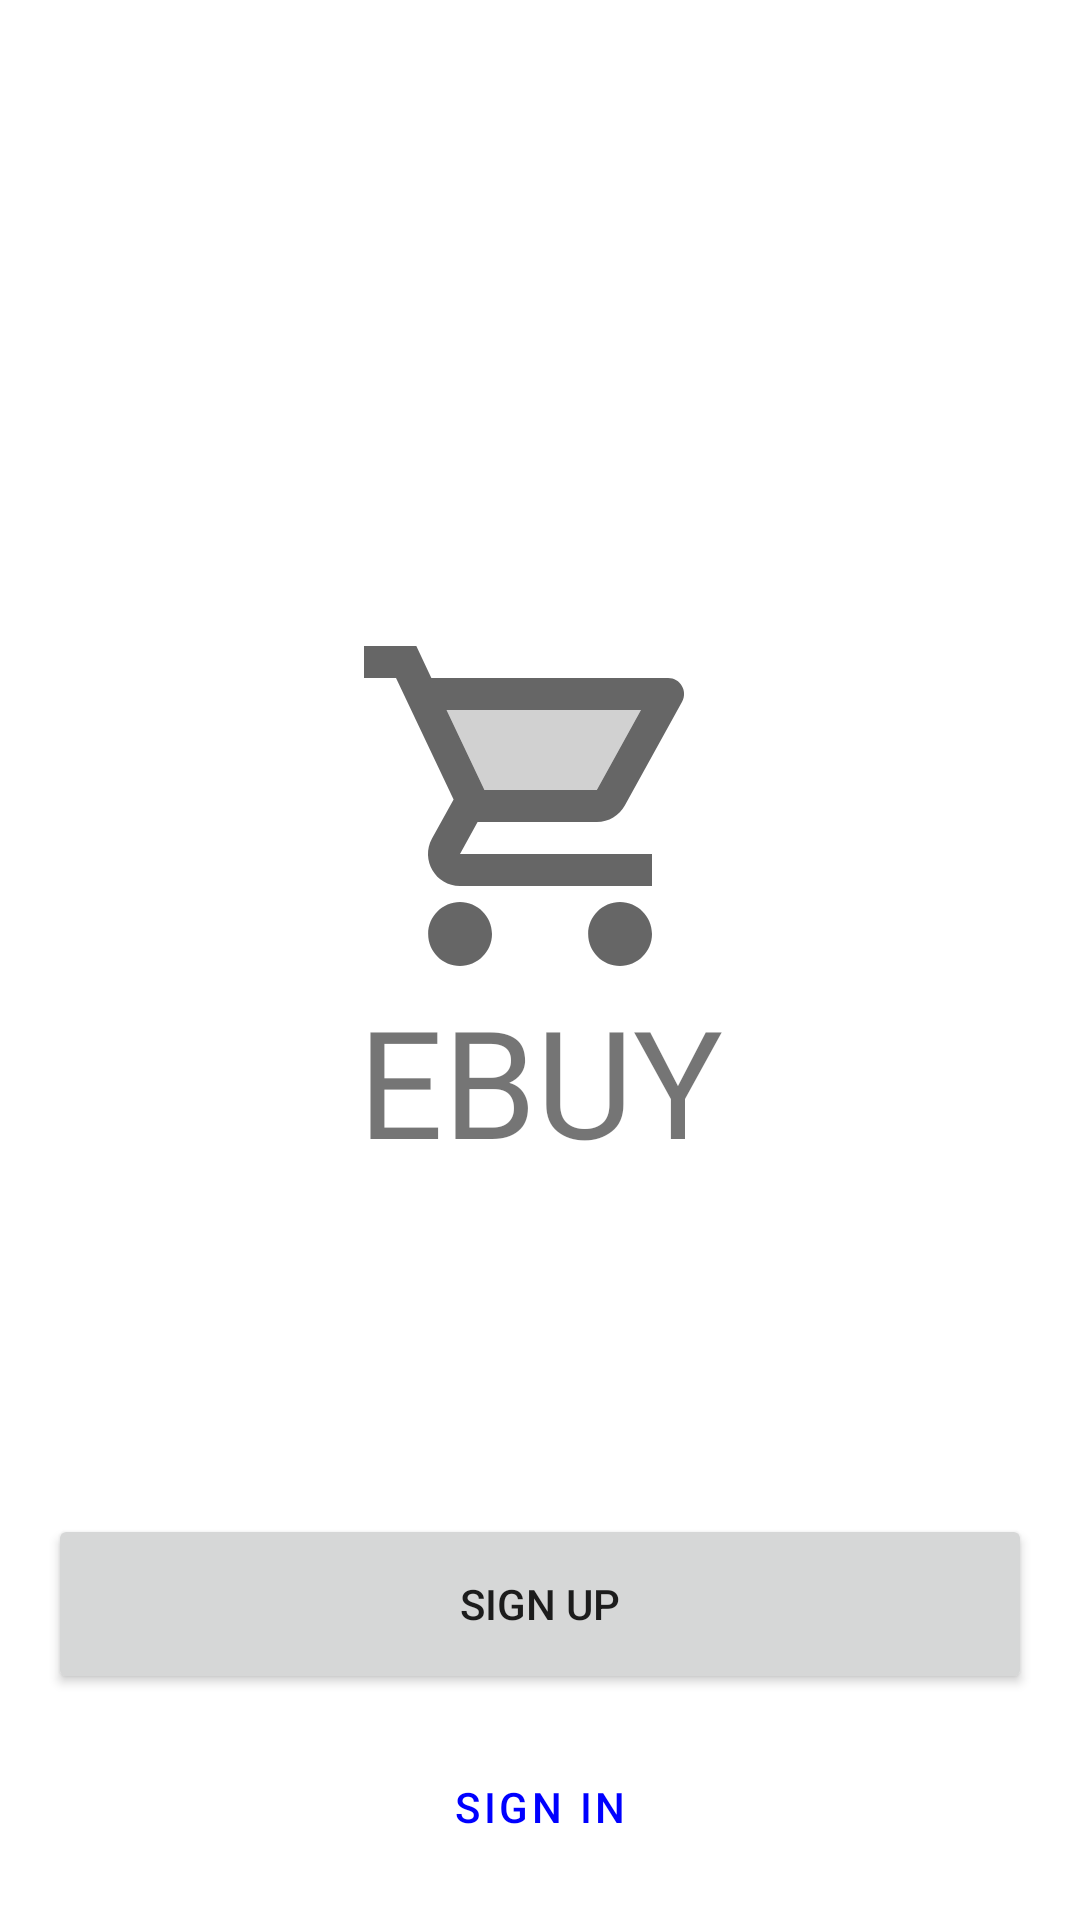

Where to tap for icons on this 1080px×1920px app screen, as (x=x, y=y):
shopping cart: (x=524, y=806)
